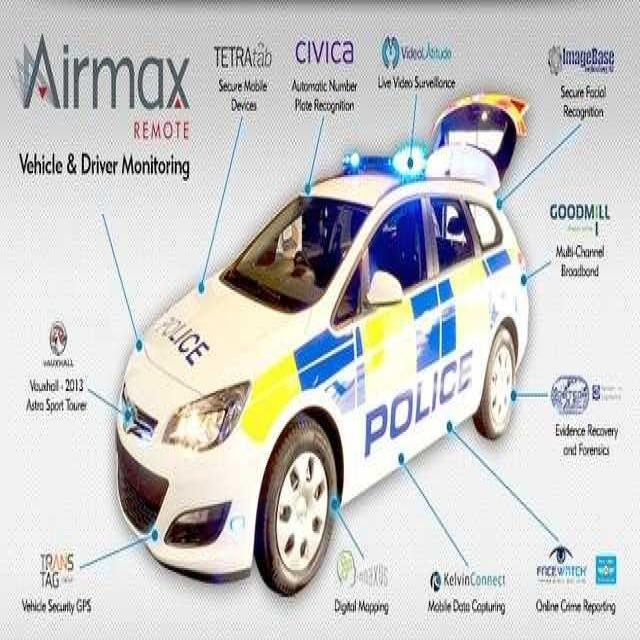firetruck: (117, 83, 545, 591)
